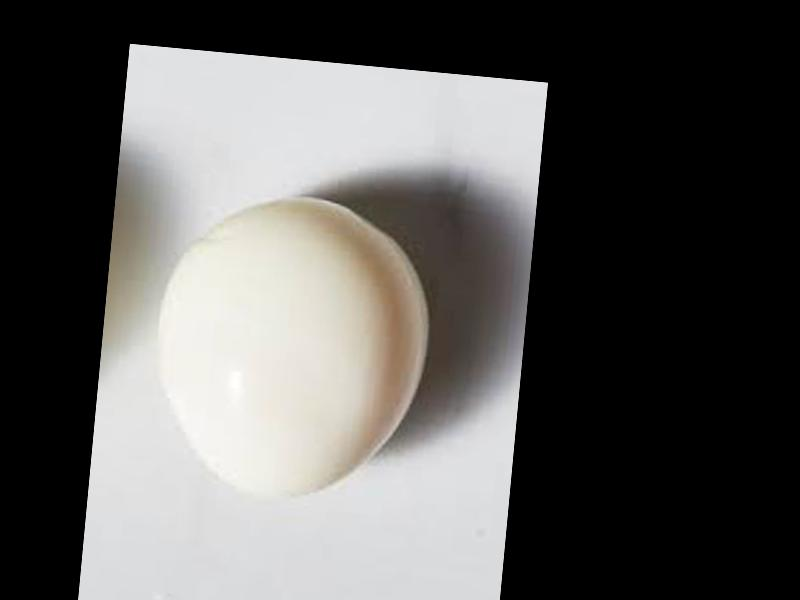Eggs: (144, 183, 439, 507)
